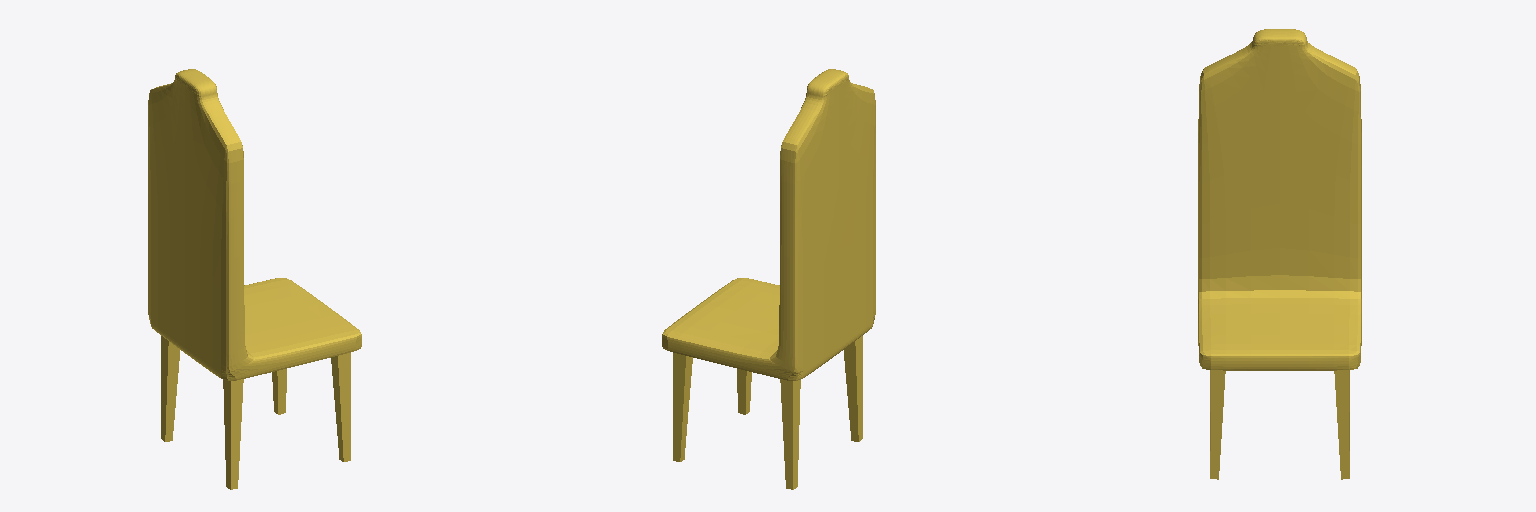
The model's file is silla.obj.
3 views of the same model, side by side, from view 1: azimuth 30°, elevation 25°; view 2: azimuth 150°, elevation 25°; view 3: azimuth 270°, elevation 25° (orthographic).
Visible parts, largest first — view 1: silla; view 2: silla; view 3: silla.
Part boxes in pixels (left/top/right/bottom): silla: left=148, top=69, right=361, bottom=489; silla: left=662, top=69, right=875, bottom=489; silla: left=1198, top=29, right=1361, bottom=479.
Bounding box in the file's own units: 6.23 × 16.3 × 6.23.